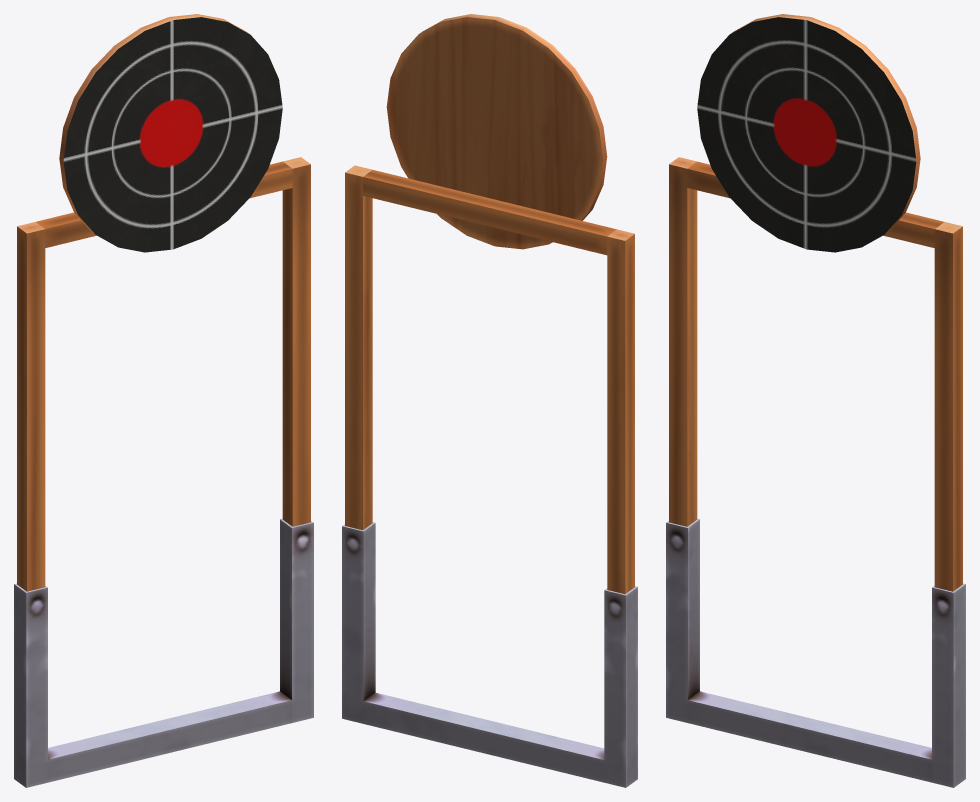
The model's file is Target01_7.FBX.
3 renders of one model, left to right at view 1: azimuth 30°, elevation 25°; view 2: azimuth 150°, elevation 25°; view 3: azimuth 330°, elevation 25°, orthographic.
Visible parts, largest first — view 1: Target01_7; view 2: Target01_7; view 3: Target01_7.
Part boxes in pixels (box(x1,y1,x2,y2)): Target01_7: box(14, 14, 313, 787); Target01_7: box(342, 14, 637, 787); Target01_7: box(666, 14, 965, 787).
Size of what is drawn, in the model's own units: 0.5669 by 1.38 by 0.0519.
